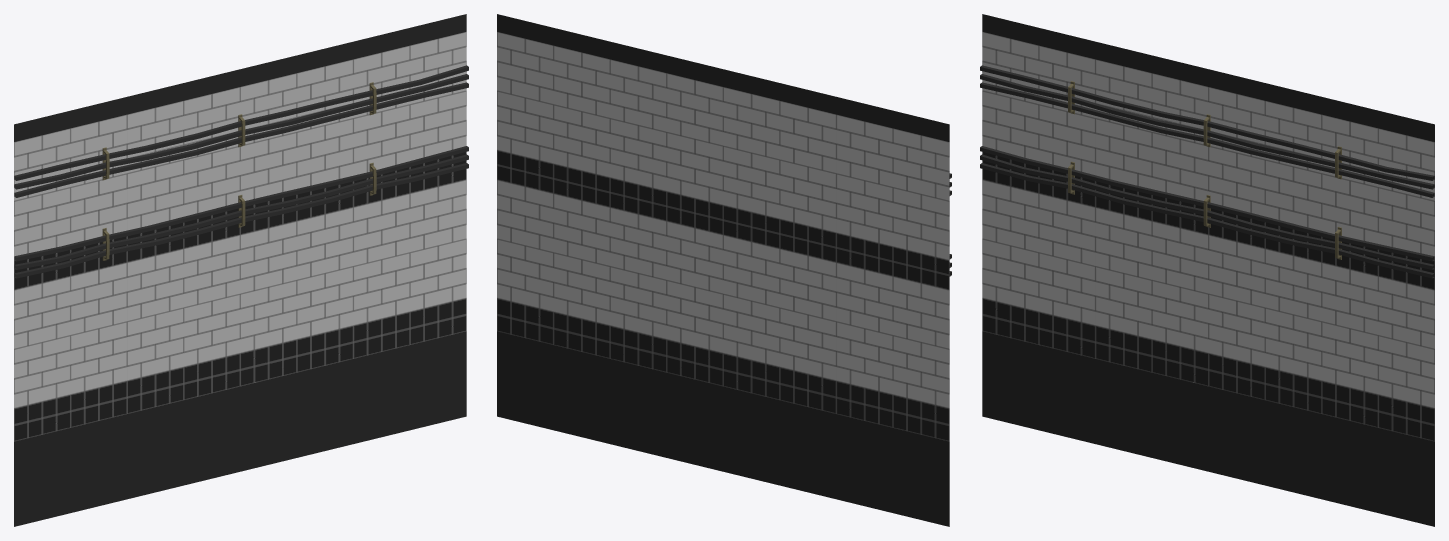
The model's file is SW_ENV_StationTunnel_Wall_A_01a_05m_FF.fbx.
The picture shows the model from 3 angles, left to right: view 1: azimuth 30°, elevation 25°; view 2: azimuth 150°, elevation 25°; view 3: azimuth 330°, elevation 25°; orthographic projection.
Visible parts, largest first — view 1: SW_ENV_StationTunnel_Wall_A_01a_05m_FF; view 2: SW_ENV_StationTunnel_Wall_A_01a_05m_FF; view 3: SW_ENV_StationTunnel_Wall_A_01a_05m_FF.
Boxes of the visible parts, bbox=[...] form: SW_ENV_StationTunnel_Wall_A_01a_05m_FF: bbox=[14, 14, 468, 526]; SW_ENV_StationTunnel_Wall_A_01a_05m_FF: bbox=[497, 14, 951, 526]; SW_ENV_StationTunnel_Wall_A_01a_05m_FF: bbox=[980, 14, 1434, 526].
Bounding box in the file's own units: 500 × 425 × 7.06.
